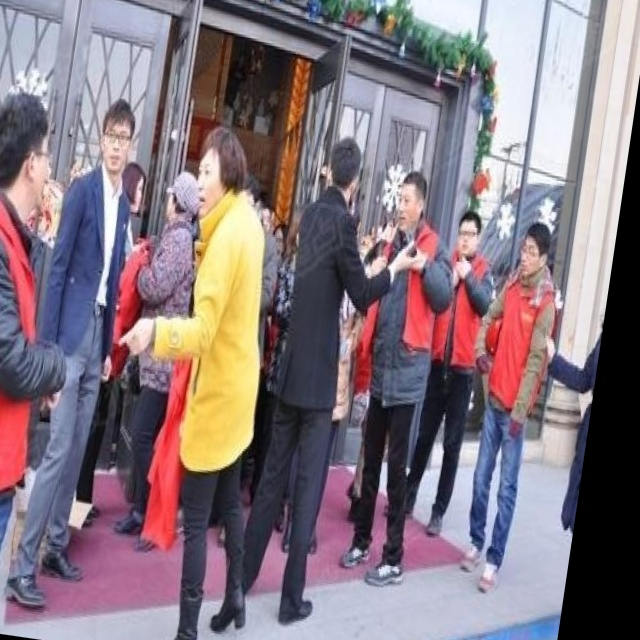Sin_Casco_Mascarrilla: (0, 91, 63, 220), (192, 125, 250, 213), (96, 99, 138, 174)
Sin_Chaleco: (46, 177, 143, 364)
